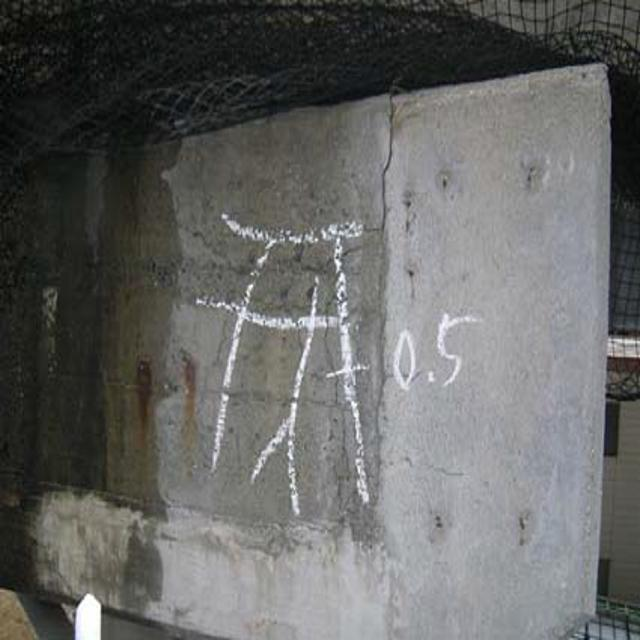crack: (303, 246, 364, 490), (364, 94, 420, 240)
